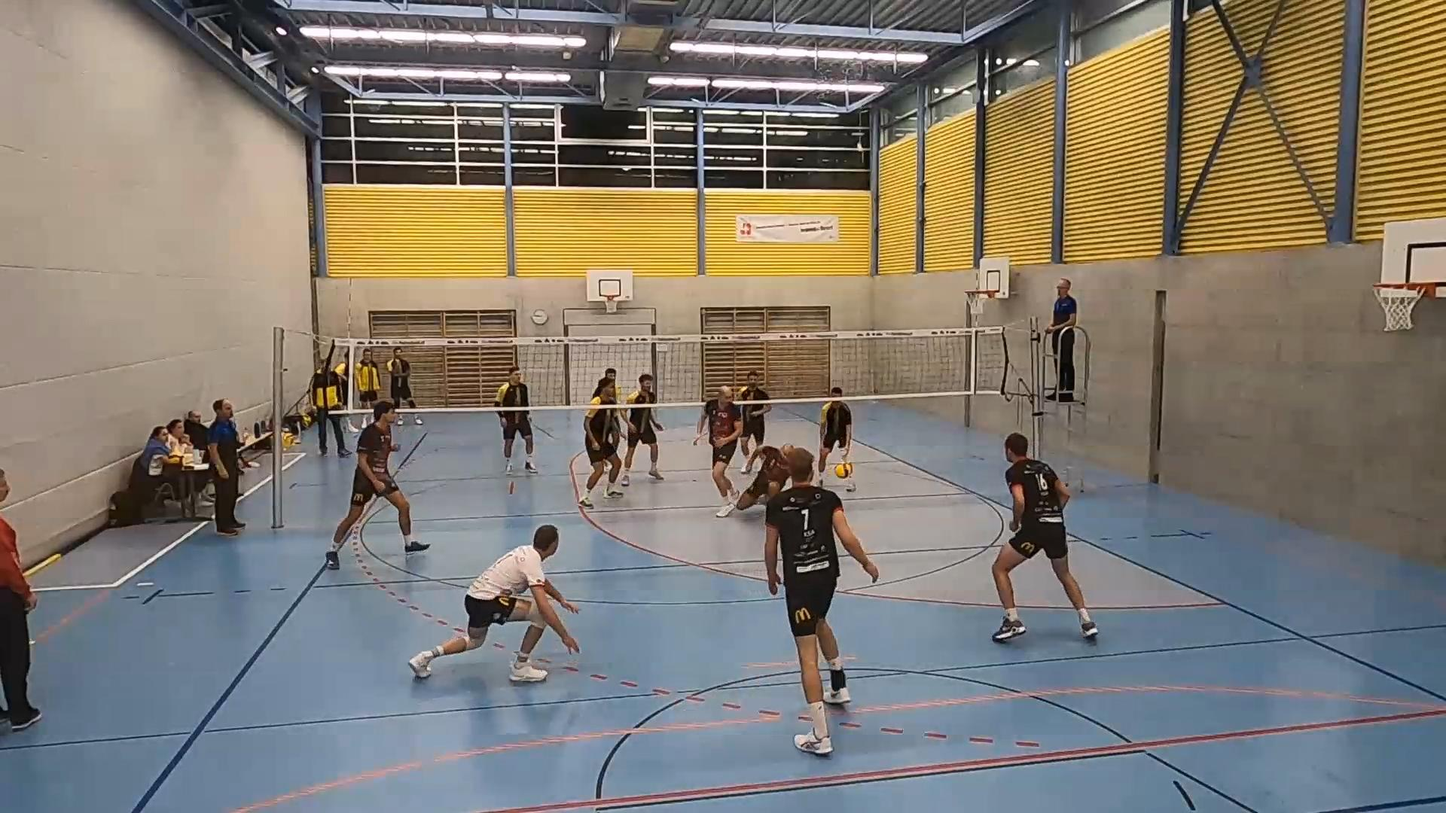Player: (765, 449, 879, 755), (409, 525, 579, 682), (992, 433, 1097, 641), (325, 400, 429, 569), (694, 385, 742, 517), (578, 379, 623, 508), (621, 373, 663, 486), (494, 367, 536, 473), (818, 386, 855, 492), (736, 445, 794, 510), (738, 370, 771, 473), (592, 367, 616, 397)
ball: (833, 460, 849, 476)
